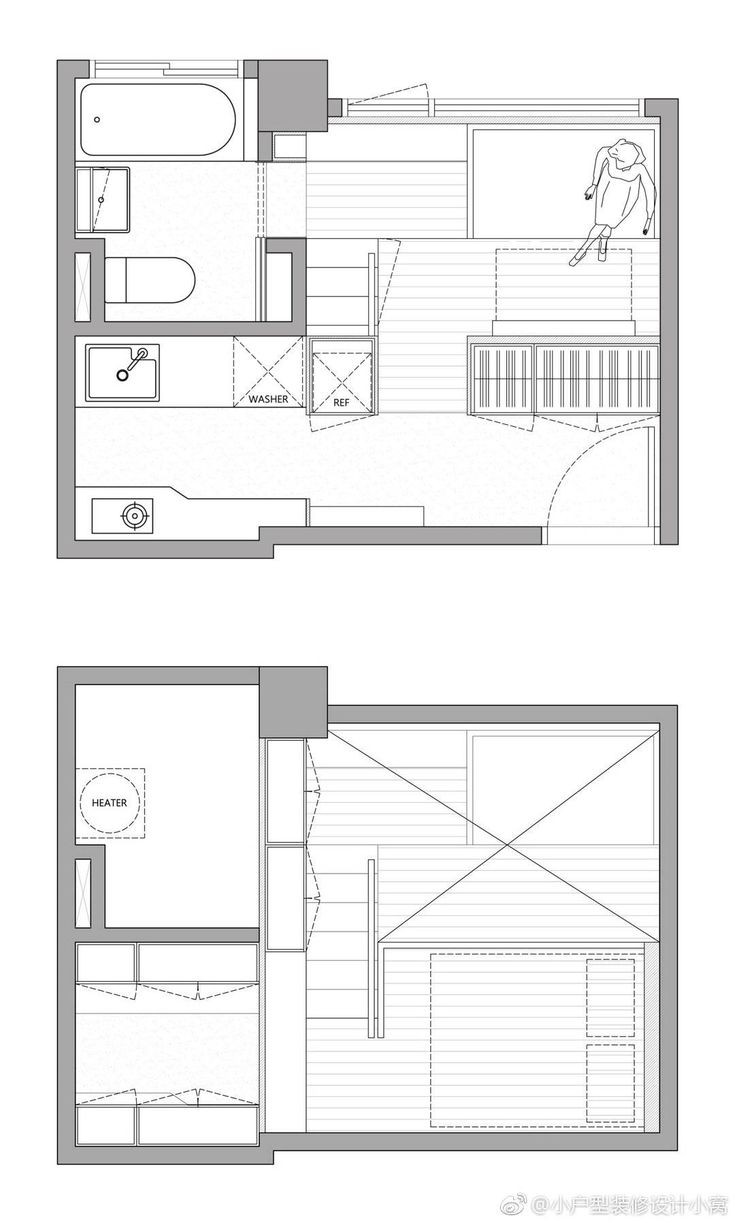door: (542, 387, 665, 561)
room: (42, 37, 716, 576), (35, 667, 681, 1163)
wall: (79, 639, 333, 754), (100, 1124, 678, 1170), (57, 513, 548, 567), (265, 687, 683, 750), (648, 92, 702, 557), (44, 59, 91, 568), (642, 715, 696, 1142), (48, 674, 91, 1165), (44, 294, 322, 354)
window: (311, 91, 644, 129), (89, 44, 241, 98)
